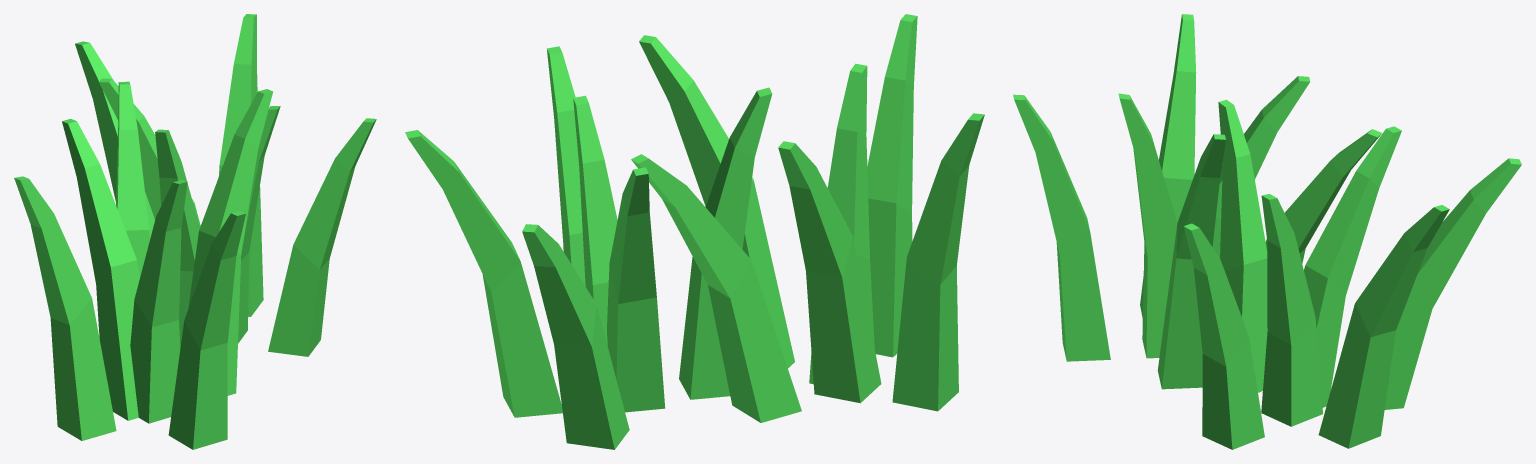
File: Grass1.fbx
3 renders of one model, left to right at view 1: azimuth 30°, elevation 25°; view 2: azimuth 150°, elevation 25°; view 3: azimuth 270°, elevation 25°, orthographic. The views are drawn at different scales.
Parts seen in each view (by area): view 1: cao1; view 2: cao1; view 3: cao1.
Boxes of the visible parts, x1,y1,x2,y2 form: cao1: [14, 14, 376, 449]; cao1: [405, 14, 984, 449]; cao1: [1013, 14, 1521, 449].
Bounding box in the file's own units: 4.68 × 3.32 × 5.43.
